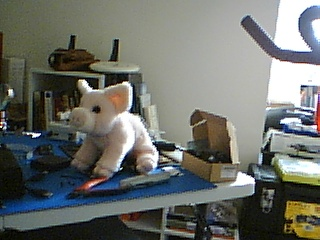piggy: (70, 79, 160, 177)
